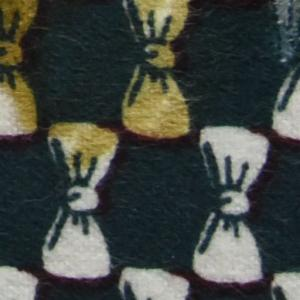Damage: (266, 1, 300, 68)
Stain: (1, 1, 204, 177)
